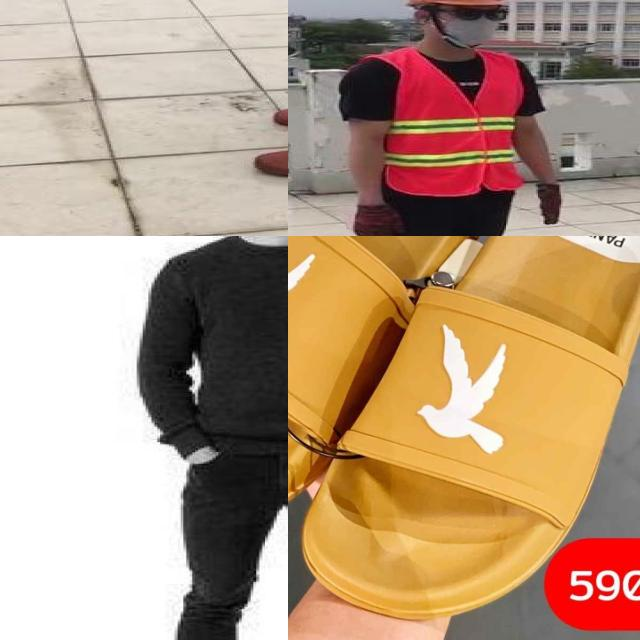Sandals: (288, 236, 640, 627)
boots: (255, 89, 288, 177)
face_mask: (436, 1, 507, 48)
glasses: (444, 1, 509, 24)
hand_glove: (351, 203, 406, 236), (535, 183, 561, 228)
head_helmet: (403, 0, 513, 10)
person: (130, 236, 288, 640), (331, 0, 569, 236)
vest: (382, 50, 522, 195)
